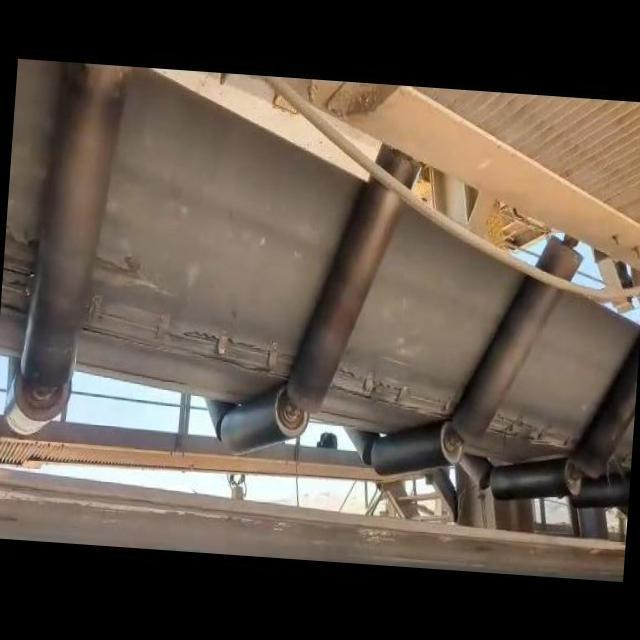Tear: (86, 296, 300, 394), (334, 351, 457, 423), (486, 398, 586, 457), (0, 218, 41, 318)
Wear: (92, 241, 172, 298)
